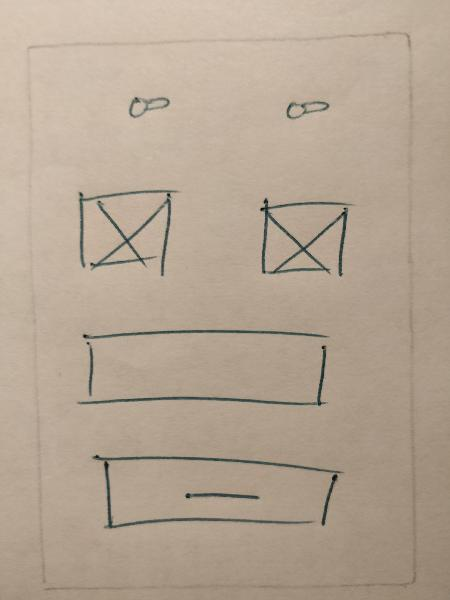button: (82, 444, 350, 544)
image: (246, 187, 365, 291), (68, 180, 185, 280)
switch: (273, 82, 338, 130), (114, 80, 181, 126)
text_input: (73, 320, 336, 420)
